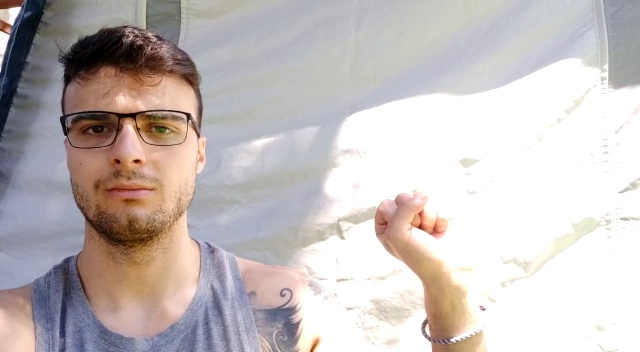Fist: (366, 191, 458, 273)
